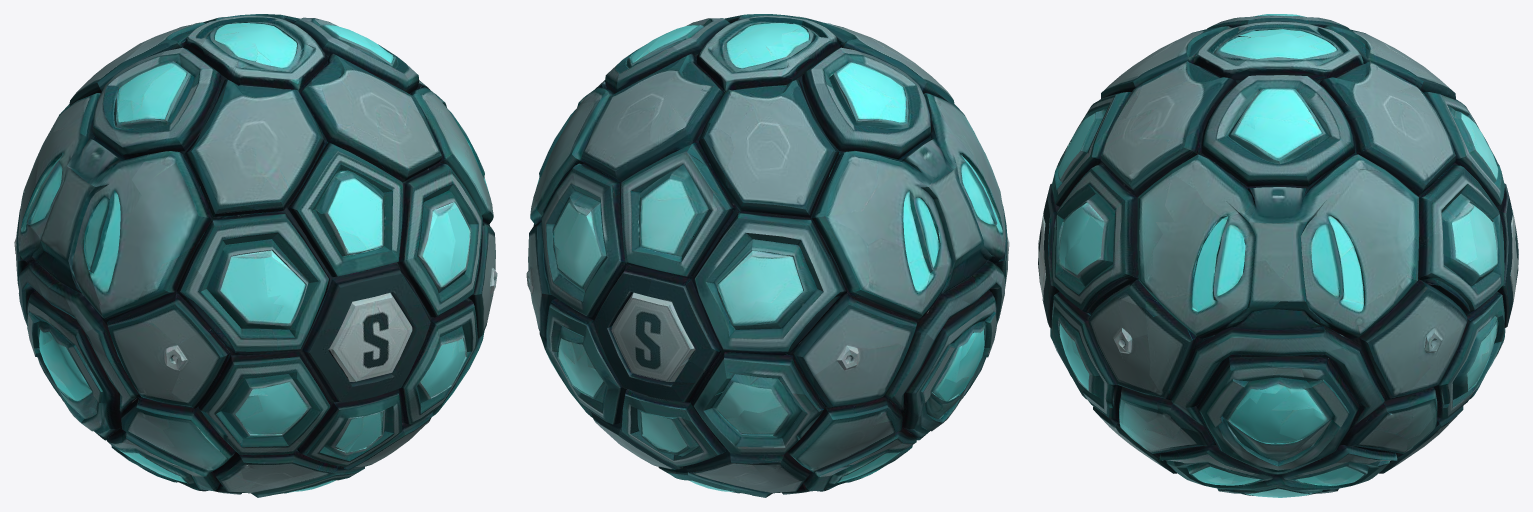
File: soccerBall.25c7b4d8.glb
The picture shows the model from 3 angles, left to right: view 1: azimuth 30°, elevation 25°; view 2: azimuth 150°, elevation 25°; view 3: azimuth 270°, elevation 25°; orthographic projection.
Parts seen in each view (by area): view 1: output_unwrapped; view 2: output_unwrapped; view 3: output_unwrapped.
Part boxes in pixels (x1=…): output_unwrapped: x1=14, y1=14, x2=497, y2=497; output_unwrapped: x1=526, y1=14, x2=1009, y2=497; output_unwrapped: x1=1038, y1=14, x2=1518, y2=497.
Size of the model in its own units: 1.89 by 1.89 by 1.9.
Materials: 1 (1 with a texture image).
